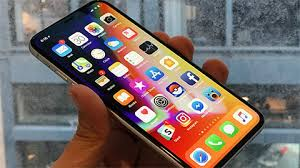iphone: (27, 1, 266, 168)
iphone10: (25, 1, 266, 168)
